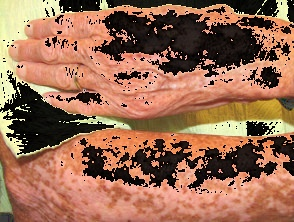vitiligo: (6, 3, 294, 121)
